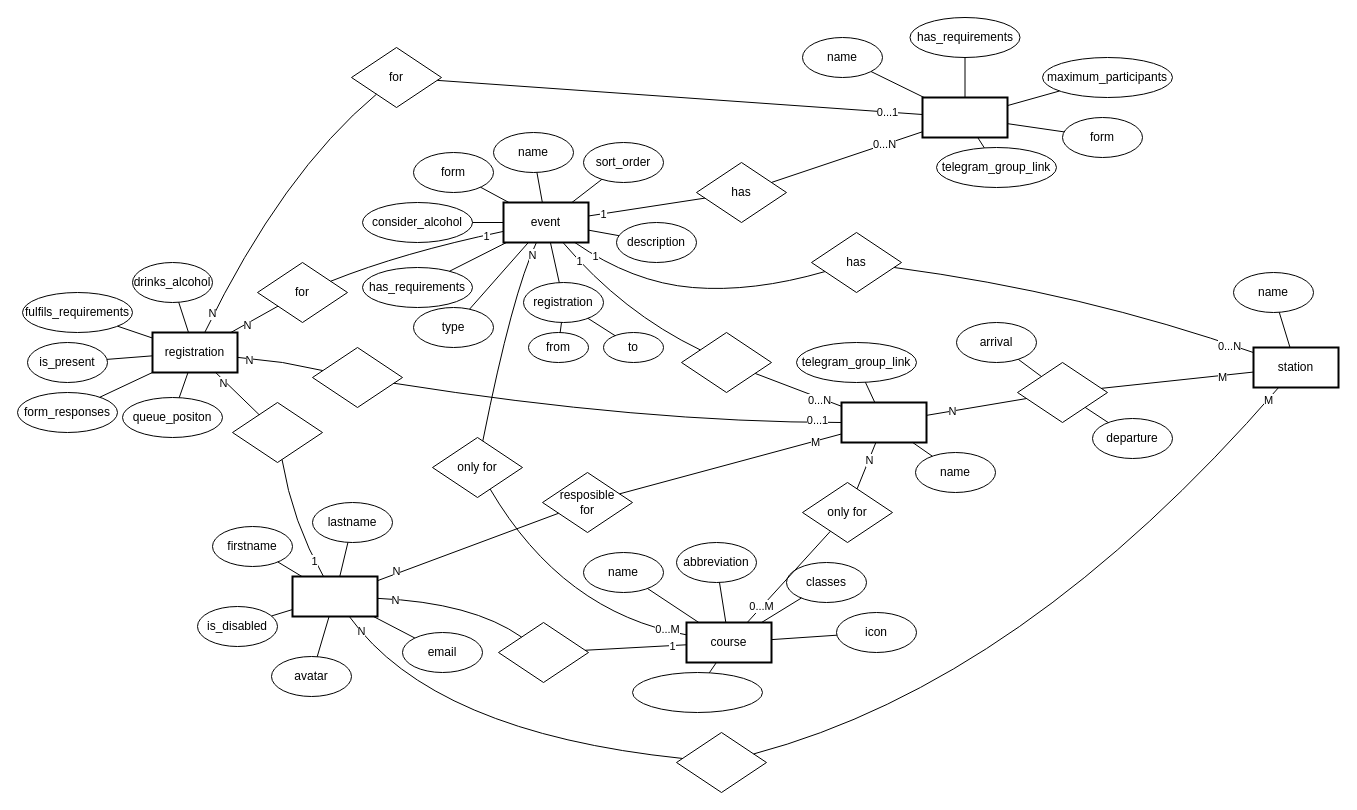
This 1357x810 diagram has some shape labels left out. Each missing label, with the centre of its shape:
"assigned to" goes at (357,377).
"belongs to" goes at (543,652).
"by" goes at (277,432).
"divided in" goes at (726,362).
"group" goes at (883,422).
"resides at" goes at (721,762).
"show_on_registration" goes at (697,692).
"slot" goes at (964,117).
"stops at" goes at (1062,392).
"user" goes at (334,596).
